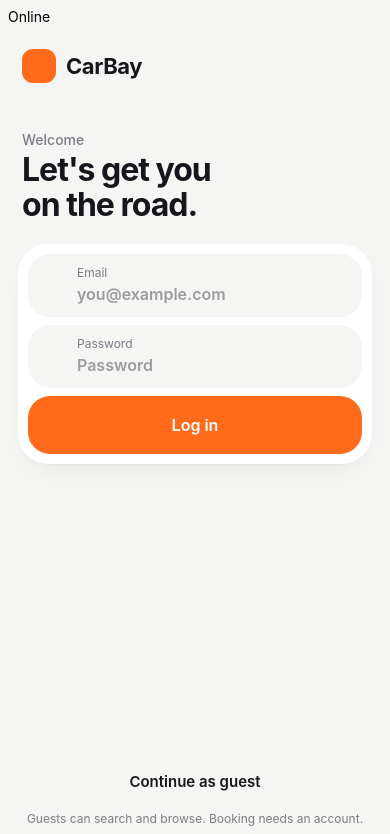
Scenario: profile › shows the user, opens their details and logs out
Step 1. Type "admin@testuser.com" into the field with placeholder "you@example.com" → (211, 294), box [77,282,345,306]
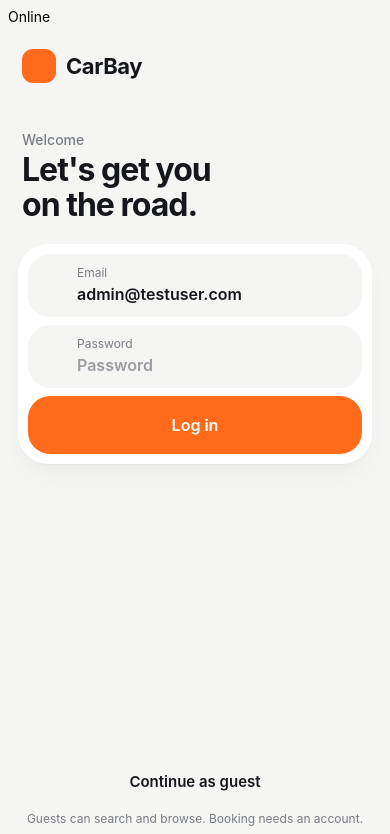
Step 2. Type "12345678" into the password field with placeholder "Password" → (211, 365), box [77,353,345,377]
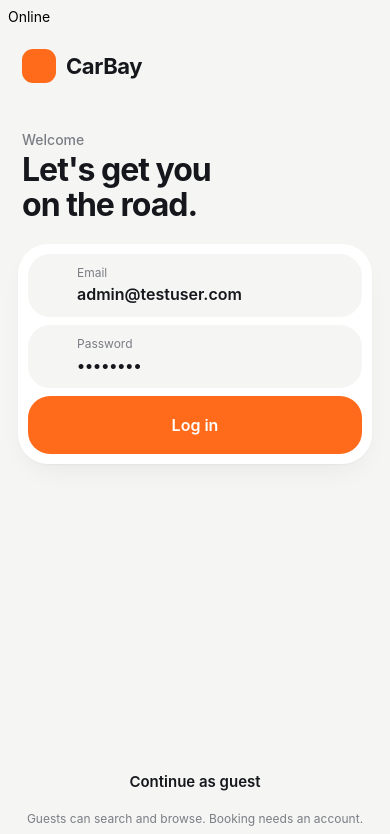
Step 3. Click the button "Log in" → (195, 425), box [28,396,362,454]
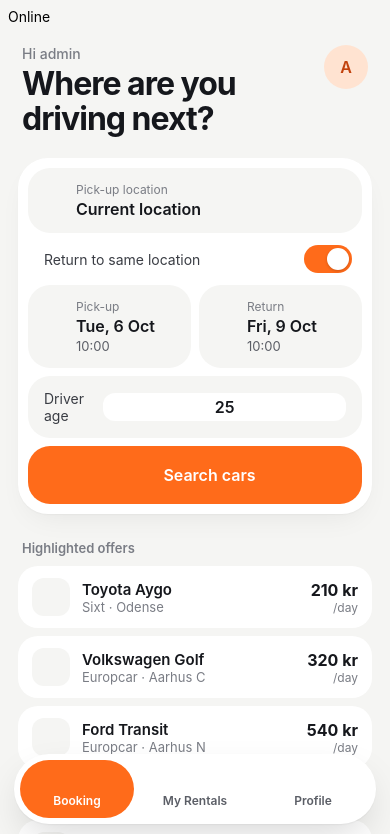
Expected: the text "Search cars" is shown, [163,465,256,485]
Step 4. Click the tab "Profile" → (313, 800), box [294,793,332,808]
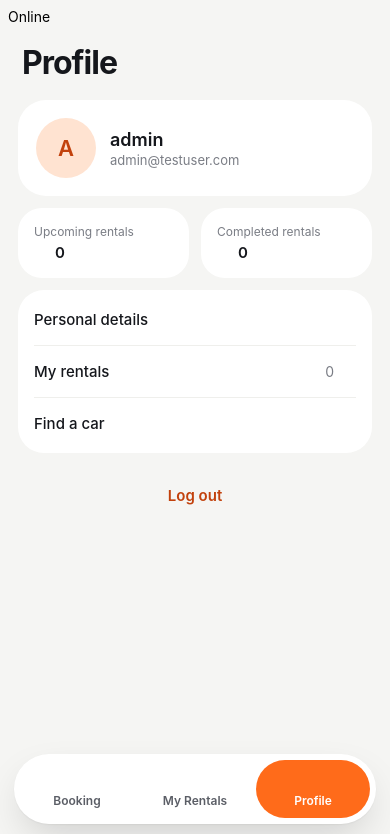
Expected: the text "Account ID" is not shown
Expected: the text "admin@testuser.com" is shown, [110,152,239,168]
Expected: the text "0" is shown 3 times, [55,243,65,262]; [238,243,248,262]; [325,363,334,380]
Step 5. Click the button "Personal details" → (91, 320), box [34,294,356,346]
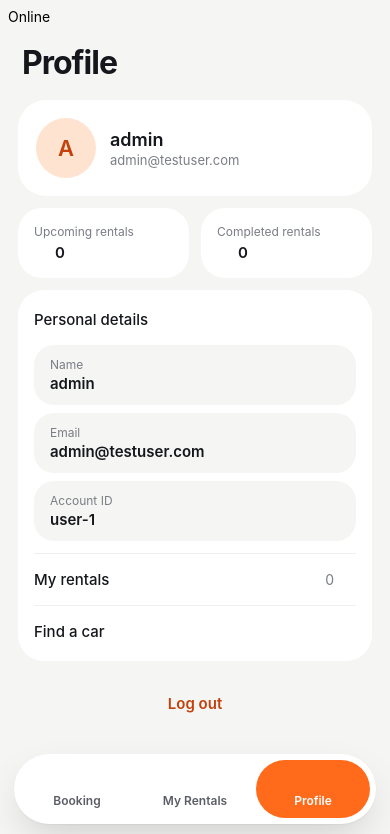
Expected: the text "Account ID" is shown, [50,493,113,508]
Expected: the text "user-1" is shown, [50,510,95,529]
Step 6. Click the button "Log out" → (195, 703), box [18,677,372,729]
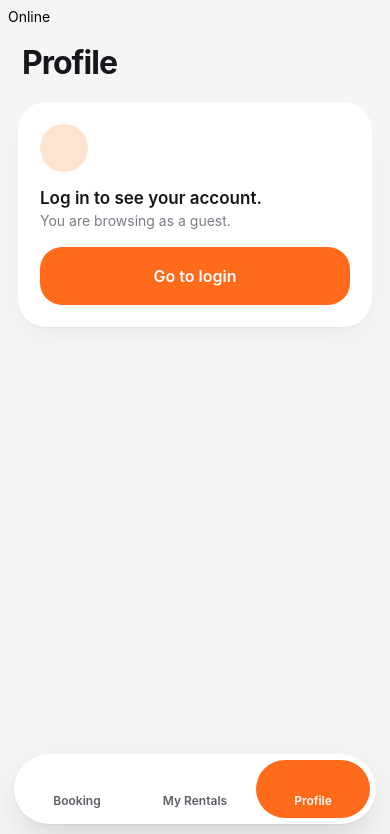
Expected: the text "Log in to see your account." is shown, [40,188,262,208]
